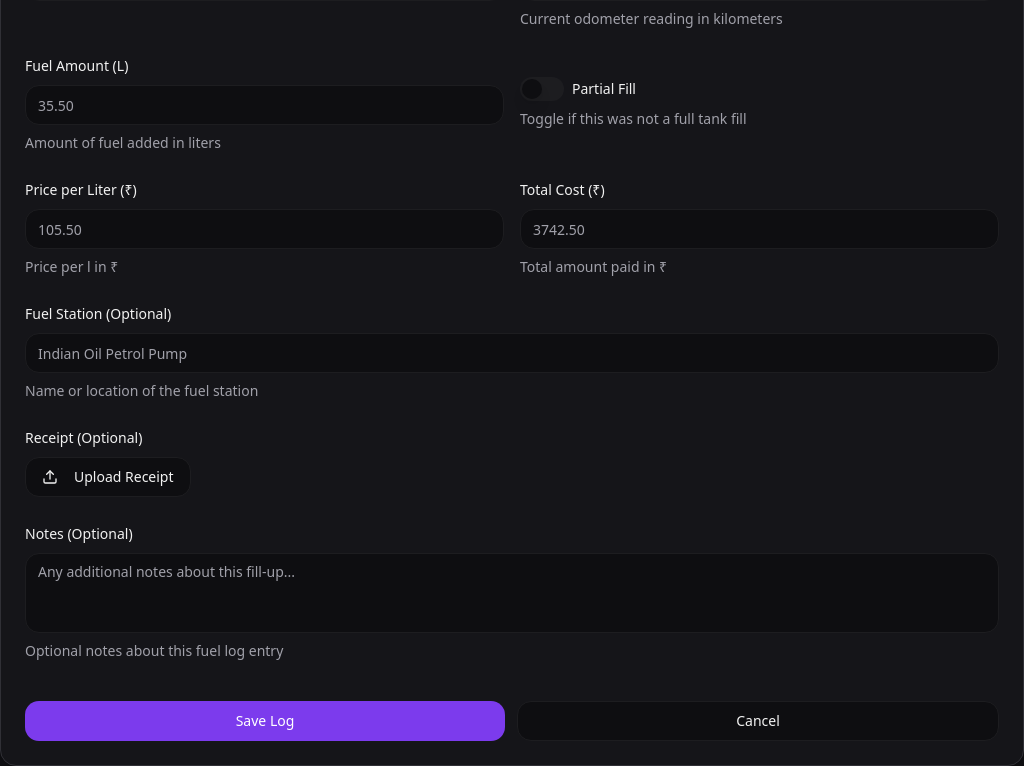
Test case: FuelLogForm › should show validation errors for invalid data
(page scrolled)
Click the button "Save Log": (265, 721) x1=25 y1=701 x2=505 y2=741
(page scrolled)
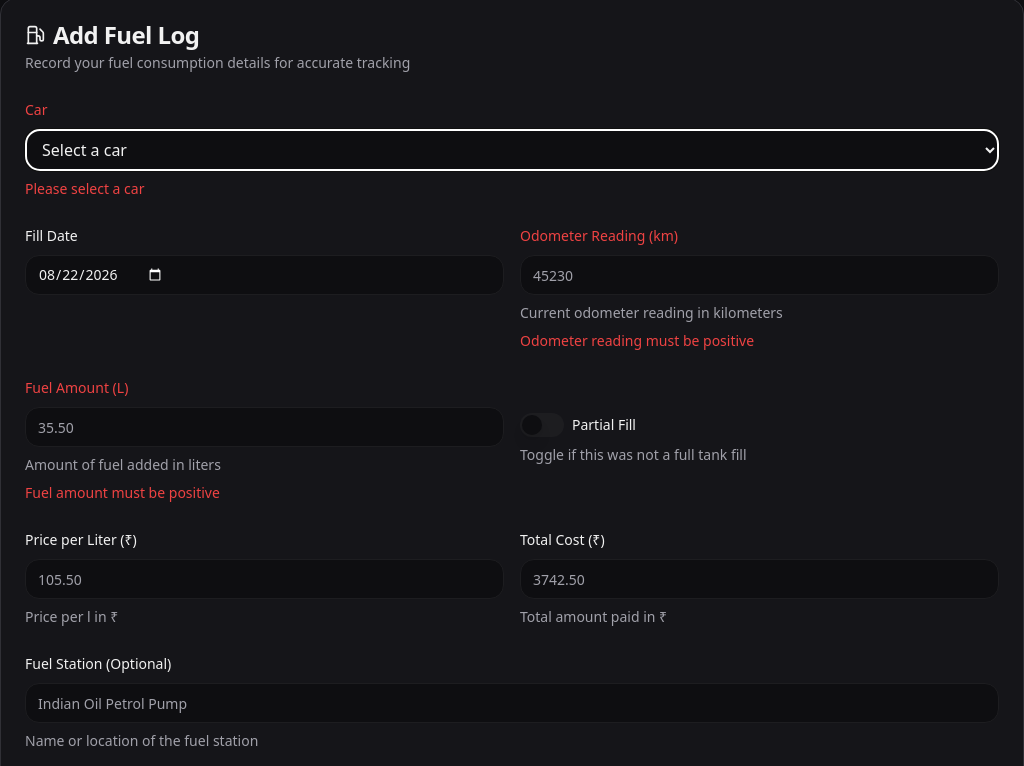
Expected: the text "Please select a car" is shown, x1=25 y1=179 x2=144 y2=198
Expected: the text "Odometer reading must be positive" is shown, x1=520 y1=331 x2=754 y2=350
Expected: the text "Fuel amount must be positive" is shown, x1=25 y1=483 x2=220 y2=502
